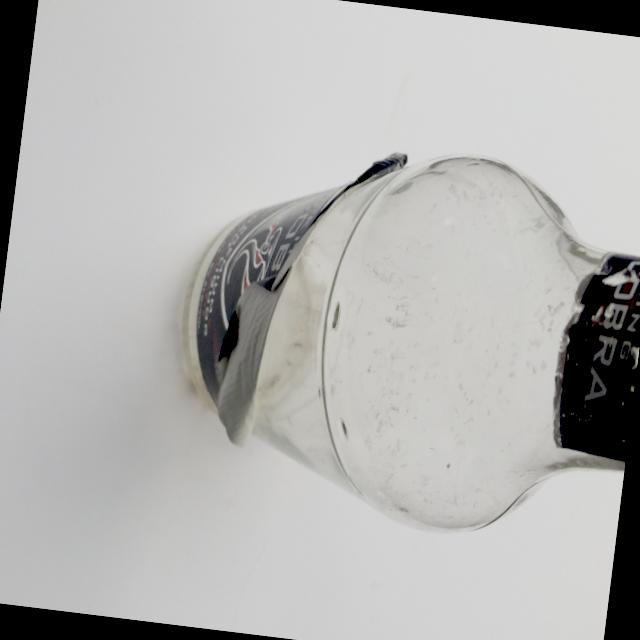Glass: (158, 114, 640, 555)
